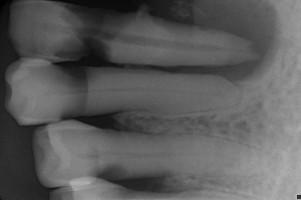Furcation Involvement: (172, 0, 281, 82)
